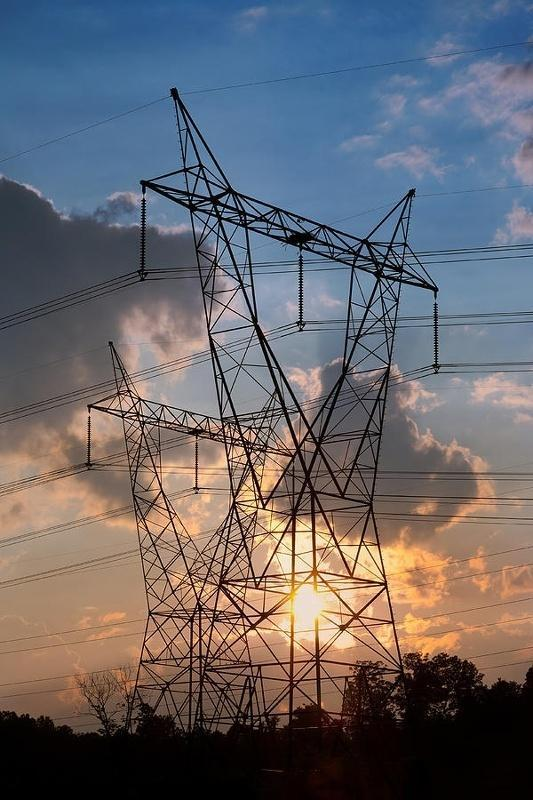power_tower: (137, 86, 441, 732), (85, 342, 298, 736)
